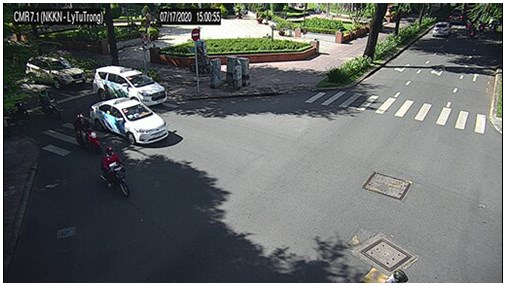xe_hoi: (26, 55, 87, 87), (433, 21, 451, 38)
xe_may: (100, 147, 130, 198), (74, 114, 102, 155), (38, 87, 61, 121)
xe_taxi: (89, 97, 168, 146), (93, 65, 166, 105)
